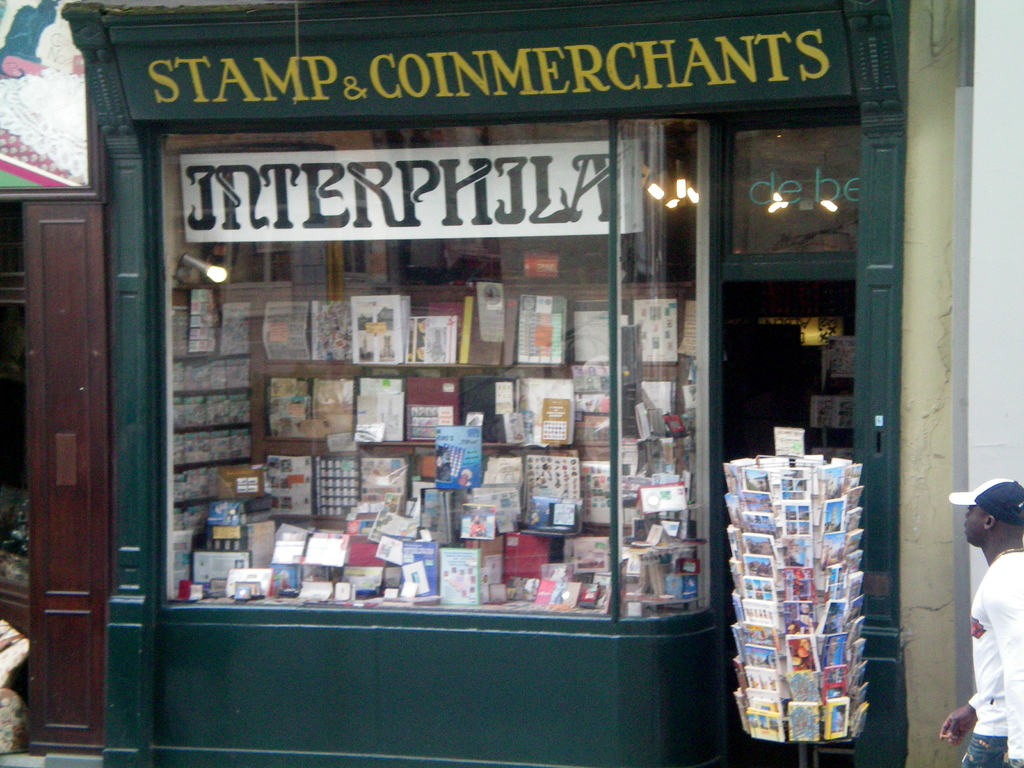Person: (938, 477, 1023, 767)
